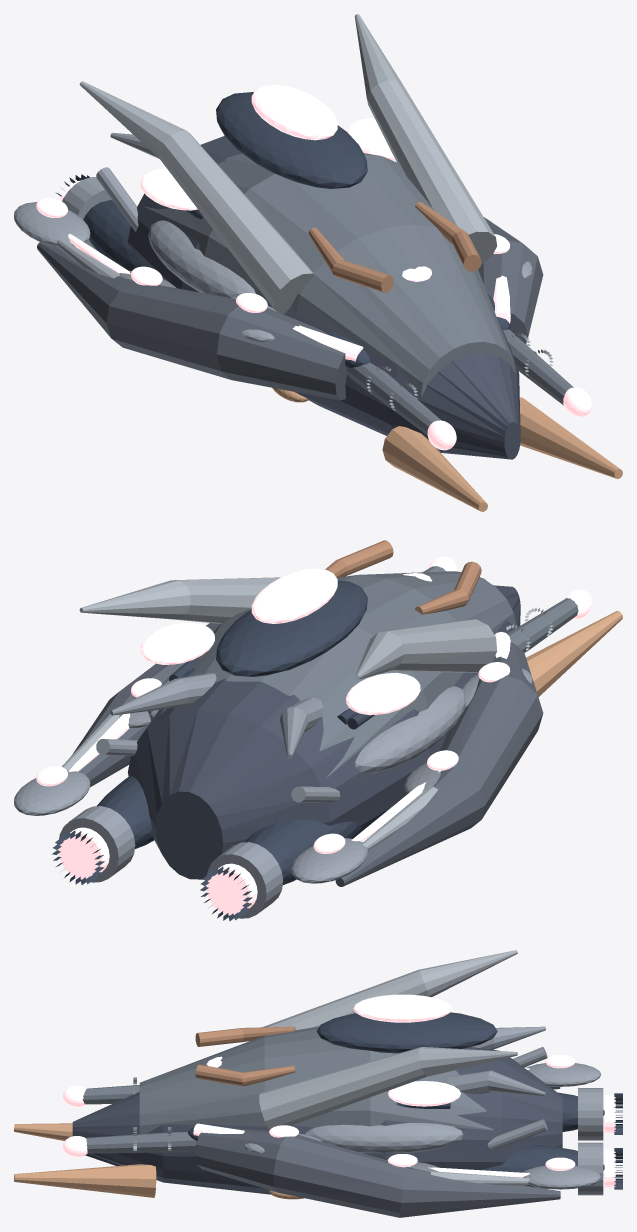
The model's file is npc_bossStreuner.glb.
3 views of the same model, one above another, from view 1: azimuth 30°, elevation 25°; view 2: azimuth 150°, elevation 25°; view 3: azimuth 270°, elevation 25° (orthographic). The views are drawn at different scales.
Parts seen in each view (by area): view 1: upper_armor_scar, armored_scythe_-1, keel_pressure_hull, prime_arch_back_-1, prime_arch_back_1, prime_reactor_tower, heavy_shield_pad_-1, prime_secondary_horn_-1, armored_scythe_1, prime_emitter, prime_secondary_horn_1, long_plasma_cannon_-1 (+13 smaller); view 2: keel_pressure_hull, upper_armor_scar, armored_scythe_-1, prime_reactor_tower, prime_arch_back_-1, prime_arch_back_1, heavy_shield_pad_-1, prime_emitter, engine_armor_-1, prime_secondary_horn_-1, armored_scythe_1, exhaust_coil_1 (+24 smaller); view 3: armored_scythe_1, upper_armor_scar, keel_pressure_hull, prime_arch_back_1, prime_reactor_tower, prime_arch_back_-1, heavy_shield_pad_1, prime_secondary_horn_1, prime_emitter, long_plasma_cannon_1, predator_dorsal_fang_1, prime_glowing_armor_1 (+19 smaller).
Boxes of the visible parts, box(x1,y1,x2,y2) form: upper_armor_scar: box(143, 153, 515, 397); armored_scythe_-1: box(37, 242, 346, 400); keel_pressure_hull: box(127, 136, 520, 459); prime_arch_back_-1: box(79, 81, 314, 313); prime_arch_back_1: box(354, 14, 496, 264); prime_reactor_tower: box(216, 92, 367, 188); heavy_shield_pad_-1: box(148, 220, 255, 297); prime_secondary_horn_-1: box(382, 426, 487, 511); armored_scythe_1: box(478, 217, 543, 343); prime_emitter: box(251, 84, 337, 140); prime_secondary_horn_1: box(519, 397, 622, 478); long_plasma_cannon_-1: box(346, 362, 441, 435); keel_pressure_hull: box(127, 585, 520, 879); upper_armor_scar: box(143, 571, 515, 777); armored_scythe_-1: box(335, 642, 543, 886); prime_reactor_tower: box(216, 580, 367, 676); prime_arch_back_-1: box(354, 619, 497, 679); prime_arch_back_1: box(79, 577, 280, 623); heavy_shield_pad_-1: box(355, 686, 465, 773); prime_emitter: box(251, 568, 337, 623); engine_armor_-1: box(245, 819, 361, 884); prime_secondary_horn_-1: box(526, 611, 622, 696); armored_scythe_1: box(71, 623, 220, 787); exhaust_coil_1: box(59, 806, 135, 882); armored_scythe_1: box(195, 1128, 560, 1217); upper_armor_scar: box(139, 1026, 493, 1134); keel_pressure_hull: box(72, 1047, 562, 1194); prime_arch_back_1: box(259, 1047, 517, 1129); prime_reactor_tower: box(316, 1012, 497, 1053); prime_arch_back_-1: box(262, 950, 517, 1030); heavy_shield_pad_1: box(305, 1123, 463, 1153); prime_secondary_horn_1: box(14, 1164, 156, 1197); prime_emitter: box(353, 994, 452, 1022); long_plasma_cannon_1: box(86, 1132, 196, 1153); predator_dorsal_fang_1: box(448, 1070, 545, 1096); prime_glowing_armor_1: box(388, 1081, 460, 1106).
Bounding box in the file's own units: 2.1 × 1.32 × 3.86.
